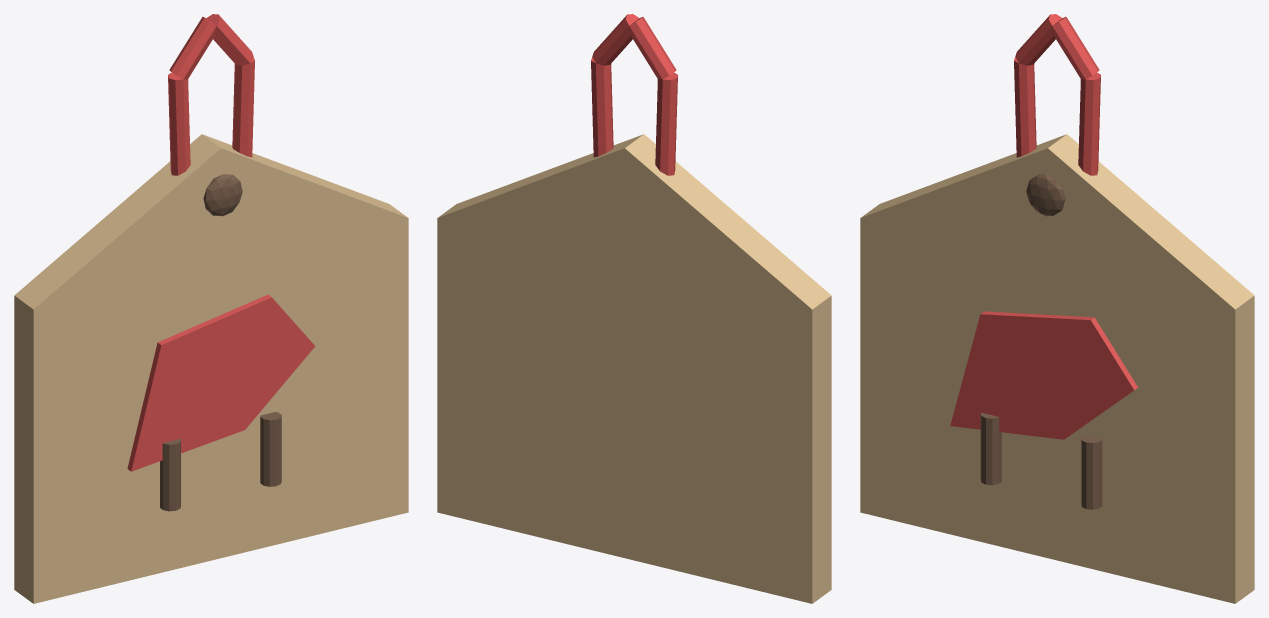
The model's file is ritual_ema.glb.
The picture shows the model from 3 angles, left to right: view 1: azimuth 30°, elevation 25°; view 2: azimuth 150°, elevation 25°; view 3: azimuth 330°, elevation 25°; orthographic projection.
Parts seen in each view (by area): view 1: Hand-cut wooden ema pentagonal shrine plaque, Ema painted horse, Red hanging cord_00, Red hanging cord_03, Horse raised leg.001, Horse raised leg, Red hanging cord_01, Ema hanging hole, Red hanging cord_02; view 2: Hand-cut wooden ema pentagonal shrine plaque, Red hanging cord_00, Red hanging cord_03, Red hanging cord_01, Red hanging cord_02; view 3: Hand-cut wooden ema pentagonal shrine plaque, Ema painted horse, Red hanging cord_03, Red hanging cord_00, Horse raised leg.001, Horse raised leg, Red hanging cord_02, Ema hanging hole, Red hanging cord_01.
Boxes of the visible parts, box(x1,y1,x2,y2) form: Hand-cut wooden ema pentagonal shrine plaque: box(14, 134, 408, 603); Ema painted horse: box(127, 294, 315, 471); Red hanging cord_00: box(168, 72, 190, 175); Red hanging cord_03: box(232, 57, 254, 157); Horse raised leg.001: box(260, 412, 281, 486); Horse raised leg: box(160, 439, 180, 511); Red hanging cord_01: box(169, 17, 216, 79); Ema hanging hole: box(203, 174, 242, 216); Red hanging cord_02: box(206, 14, 253, 65); Hand-cut wooden ema pentagonal shrine plaque: box(437, 134, 831, 603); Red hanging cord_00: box(655, 72, 677, 175); Red hanging cord_03: box(591, 57, 613, 157); Red hanging cord_01: box(629, 17, 676, 79); Red hanging cord_02: box(592, 14, 639, 65); Hand-cut wooden ema pentagonal shrine plaque: box(860, 134, 1254, 603); Ema painted horse: box(950, 311, 1137, 439); Red hanging cord_03: box(1078, 72, 1100, 175); Red hanging cord_00: box(1014, 57, 1036, 157); Horse raised leg.001: box(1081, 434, 1102, 509); Horse raised leg: box(980, 412, 1001, 485); Red hanging cord_02: box(1052, 17, 1099, 79); Ema hanging hole: box(1026, 174, 1065, 216); Red hanging cord_01: box(1015, 14, 1062, 65).
Bounding box in the file's own units: 1.43 × 1.95 × 0.1827.
